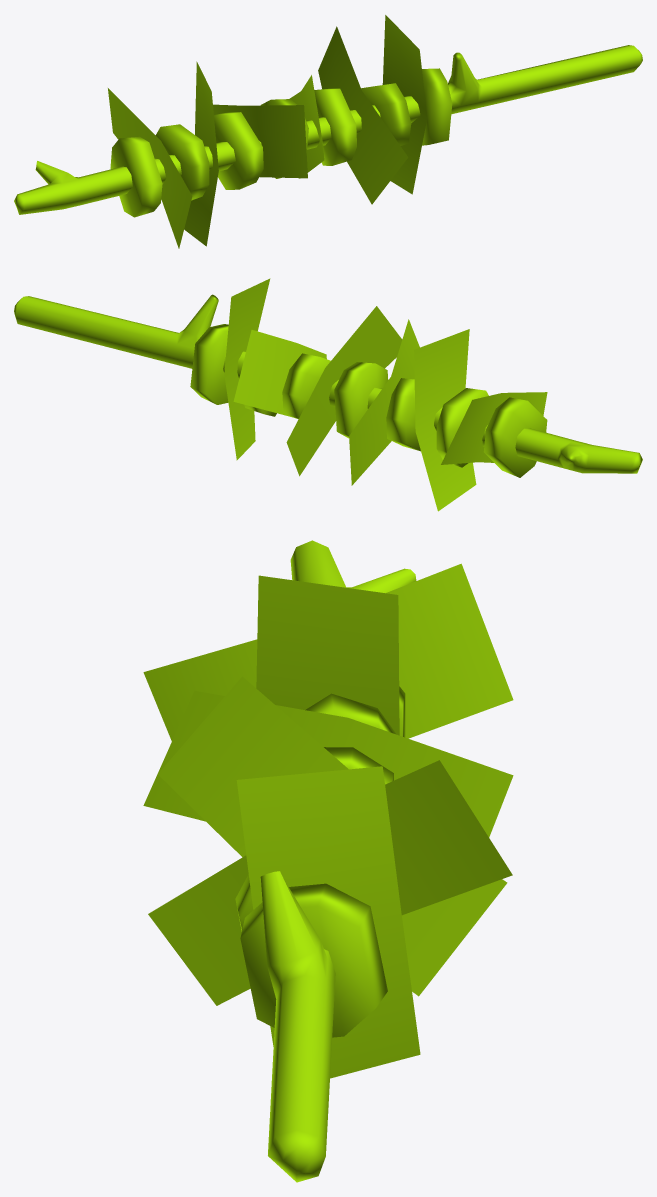
File: LOD1_brochette.fbx
3 views of the same model, one above another, from view 1: azimuth 30°, elevation 25°; view 2: azimuth 150°, elevation 25°; view 3: azimuth 270°, elevation 25° (orthographic). The views are drawn at different scales.
Parts seen in each view (by area): view 1: brochette_LOD1; view 2: brochette_LOD1; view 3: brochette_LOD1.
Part boxes in pixels (box(x1,y1,x2,y2)): brochette_LOD1: box(14, 15, 642, 248); brochette_LOD1: box(14, 278, 642, 511); brochette_LOD1: box(143, 540, 513, 1182).
Size of the model in its own units: 79.73 by 19.94 by 20.65.
